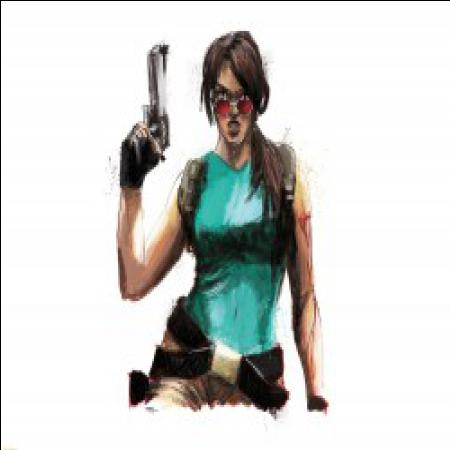Pistol: (112, 37, 186, 166)
